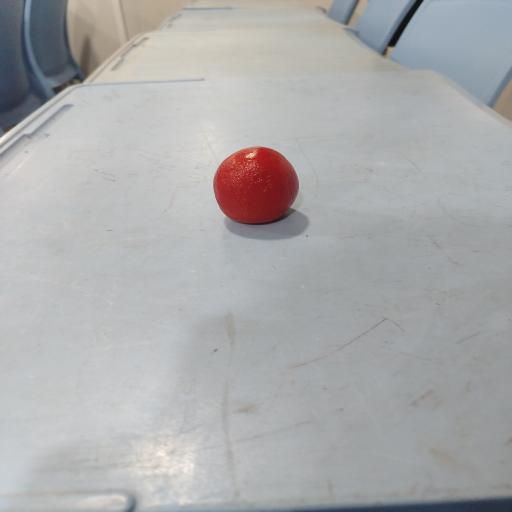spoiled: (214, 147, 299, 223)
